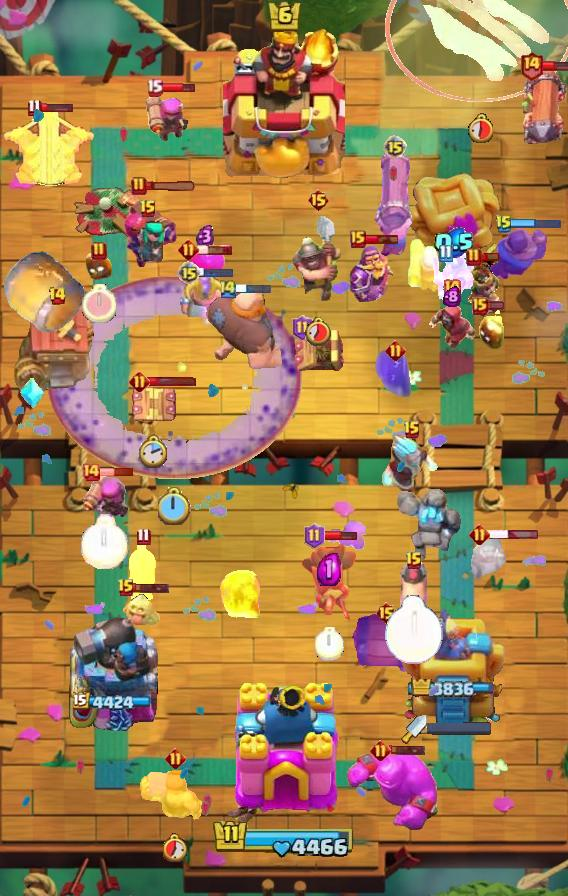bandit: (468, 530, 518, 582)
bar: (510, 217, 562, 230), (487, 529, 539, 540), (145, 181, 197, 192), (147, 376, 197, 387), (236, 282, 273, 295), (160, 81, 196, 94), (389, 744, 426, 756), (133, 582, 170, 594), (197, 244, 233, 256), (364, 233, 400, 245), (323, 530, 358, 542), (39, 101, 74, 113), (198, 267, 234, 278), (99, 467, 134, 477), (541, 60, 568, 72), (480, 251, 500, 262), (486, 300, 505, 311)
bar-level: (519, 50, 544, 81), (177, 261, 201, 285), (383, 135, 407, 159), (375, 601, 398, 625), (307, 188, 330, 212), (304, 523, 325, 549), (292, 315, 313, 341), (165, 748, 186, 769), (370, 740, 391, 761), (469, 524, 490, 545), (129, 371, 150, 392), (385, 340, 406, 361), (178, 239, 199, 260), (218, 278, 238, 299), (81, 462, 101, 482), (442, 278, 462, 298), (48, 286, 67, 306), (117, 578, 135, 598), (405, 551, 423, 571), (403, 420, 421, 440), (495, 214, 513, 234), (139, 199, 157, 219), (146, 78, 163, 97), (466, 247, 482, 267), (91, 241, 107, 261), (131, 176, 147, 196), (472, 297, 488, 315), (350, 230, 366, 248), (136, 527, 151, 546), (438, 244, 453, 263), (27, 98, 42, 117)
barbarian-barrel: (346, 614, 426, 674)
cannoneer-tower: (68, 611, 160, 731)
clock: (384, 595, 444, 665), (81, 514, 129, 569), (82, 284, 116, 323), (158, 487, 191, 525), (139, 434, 169, 470), (315, 627, 344, 661), (304, 316, 333, 346), (467, 113, 493, 143), (163, 833, 188, 862)
dagger-duchess-tower: (401, 601, 505, 731)
dagger-duchess-tower-bar: (427, 722, 491, 735)
dart-goblin: (299, 541, 359, 621)
electro-spirit: (375, 349, 415, 397)
elite-barbarian: (180, 274, 229, 317)
elixir: (434, 227, 475, 258), (317, 553, 341, 586), (196, 224, 215, 249), (443, 286, 461, 307)
elixir-golem-small: (185, 248, 225, 276)
fire-spirit: (477, 308, 509, 352), (84, 253, 114, 281)
firecracker: (81, 473, 130, 525), (406, 236, 448, 294), (143, 91, 188, 141)
firecracker-evolution: (119, 189, 179, 269)
golemite: (393, 486, 467, 568)
heal-spirit: (121, 590, 161, 628)
ice-spirit-evolution-symbol: (19, 377, 45, 409)
ice-wizard: (382, 432, 442, 498)
king-tower: (223, 27, 345, 181), (222, 680, 346, 826)
king-tower-bar: (212, 818, 356, 860)
knight: (485, 226, 549, 282)
knight-evolution: (348, 244, 393, 303)
little-prince: (465, 256, 504, 318)
lumberjack: (140, 767, 210, 823)
miner: (291, 214, 345, 302)
rascal-girl: (128, 220, 168, 270)
royal-hog: (398, 561, 430, 625), (127, 540, 159, 604)
spear-goblin: (430, 251, 478, 303)
tesla: (293, 325, 347, 375), (130, 383, 178, 427)
tower-bar: (73, 692, 155, 713), (411, 679, 495, 697)
wizard: (427, 302, 477, 352)
